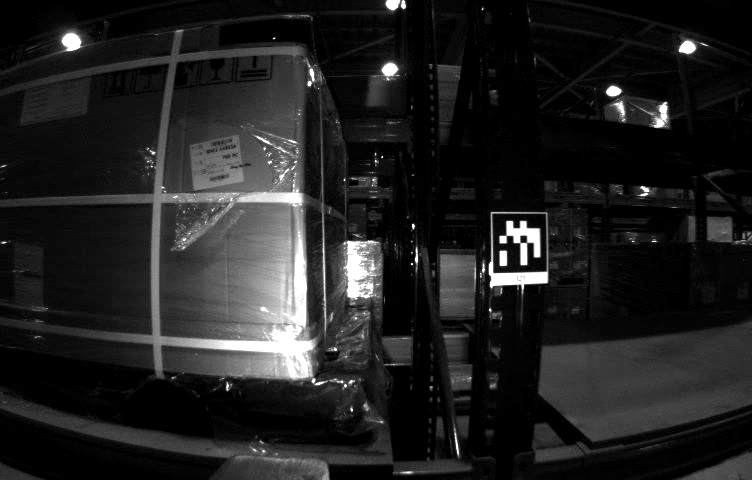True Barcode: (191, 131, 245, 193)
